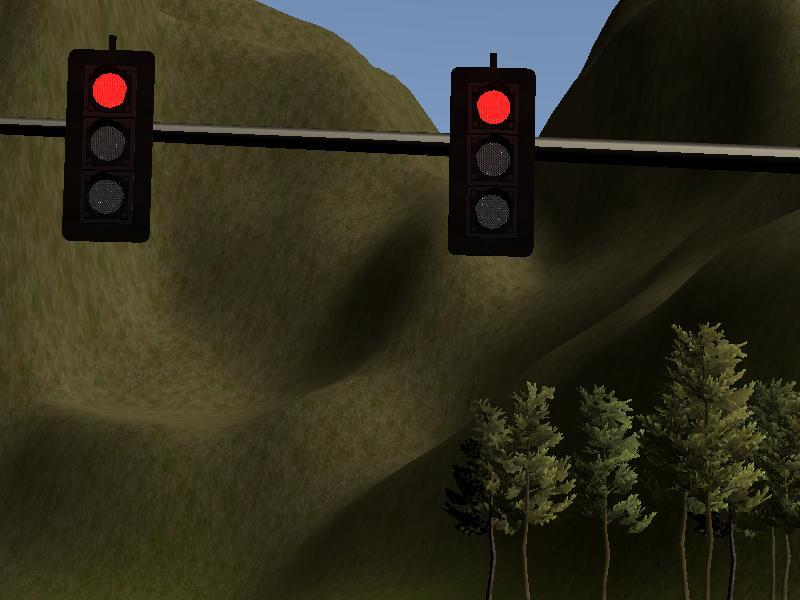Red: (453, 70, 532, 253), (71, 53, 146, 237)
